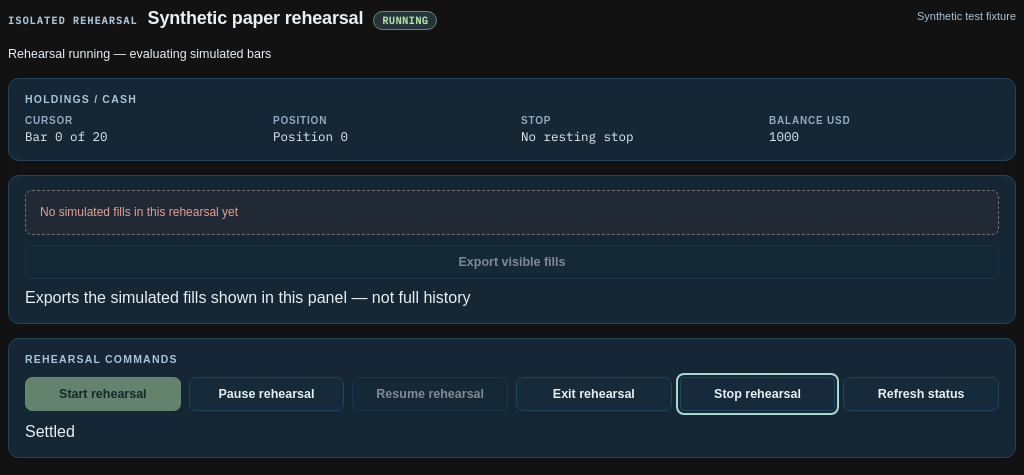
Test: rehearsal-commands-busy › signals stop through settlement and permits later activation
Expected: the element with test id "rehearsal-holdings-panel" is shown, [8,78,1016,161]
Click the button with test id "rehearsal-command-stop" at [758, 394], box [680,377,835,411]
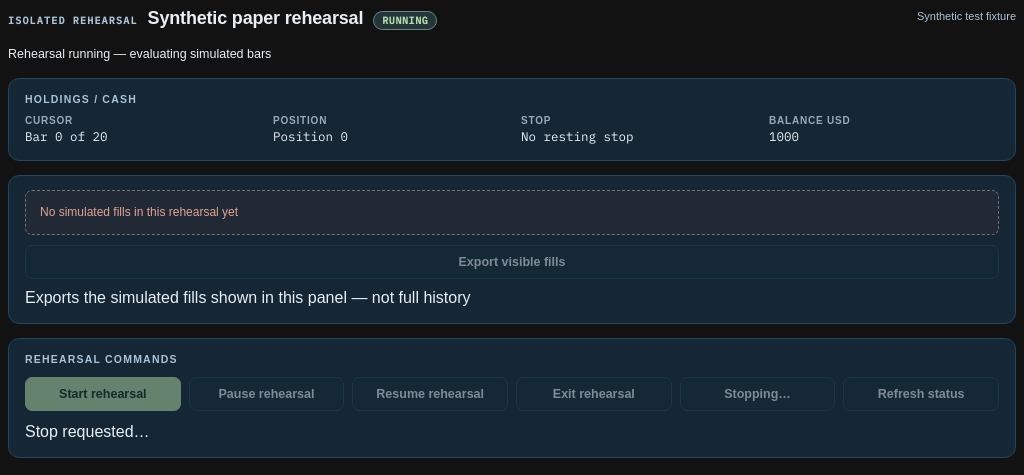
Now the button with test id "rehearsal-command-stop" is disabled
Now the button with test id "rehearsal-command-stop" reads "Stopping…"
Now the text with test id "rehearsal-commands-busy-status" reads "Stop requested…", box [25,423,150,440]
Press the mouse on the button with test id "rehearsal-command-stop" at [758, 394], box [680,377,835,411]
Press Enter in the button with test id "rehearsal-command-stop", box [680,377,835,411]
Click the button with test id "rehearsal-command-stop" at [758, 394], box [680,377,835,411]
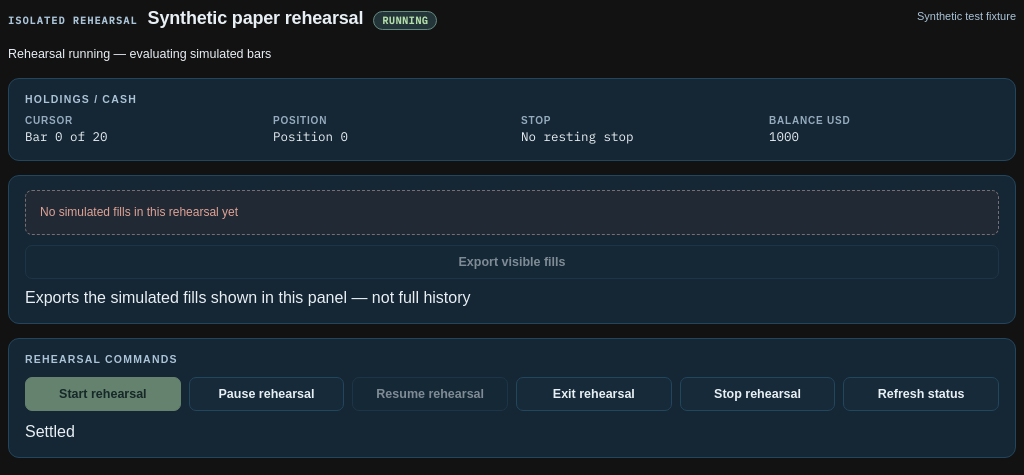
Now the button with test id "rehearsal-command-stop" reads "Stop rehearsal"
Now the text with test id "rehearsal-commands-busy-status" reads "Settled", box [25,423,75,440]
Now the button with test id "rehearsal-command-stop" is enabled
Click the button with test id "rehearsal-command-stop" at [758, 394], box [680,377,835,411]
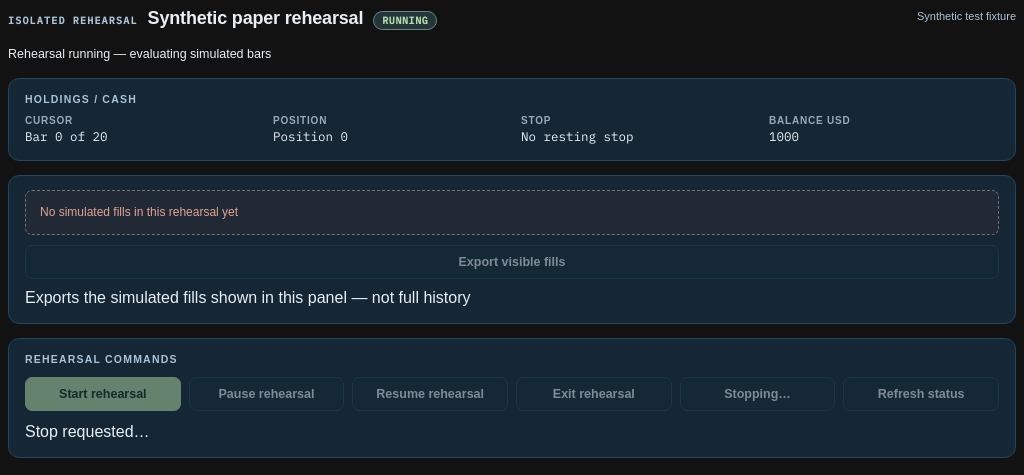
Now the button with test id "rehearsal-command-stop" is disabled
Now the button with test id "rehearsal-command-stop" reads "Stopping…"
Now the text with test id "rehearsal-commands-busy-status" reads "Stop requested…", box [25,423,150,440]
Press the mouse on the button with test id "rehearsal-command-stop" at [758, 394], box [680,377,835,411]
Press Enter in the button with test id "rehearsal-command-stop", box [680,377,835,411]
Click the button with test id "rehearsal-command-stop" at [758, 394], box [680,377,835,411]
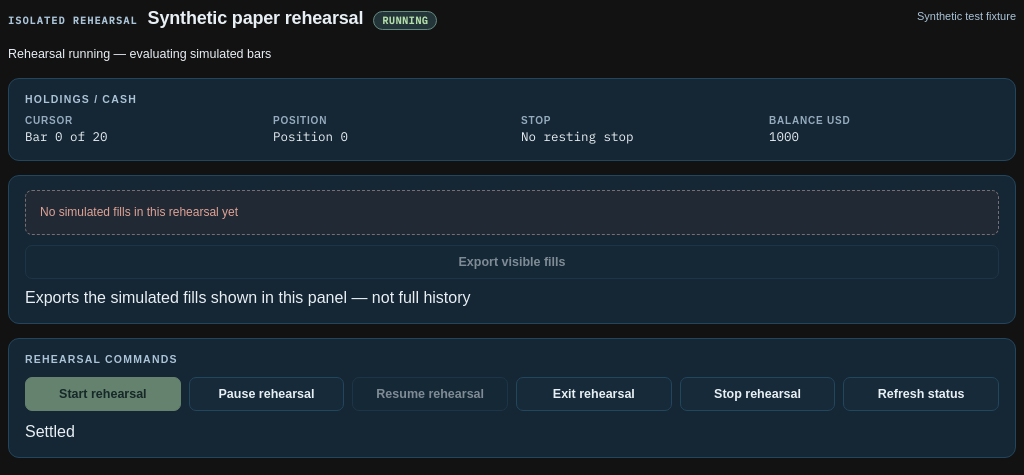
Now the button with test id "rehearsal-command-stop" reads "Stop rehearsal", box [680,377,835,411]
Now the text with test id "rehearsal-commands-busy-status" reads "Settled", box [25,423,75,440]
